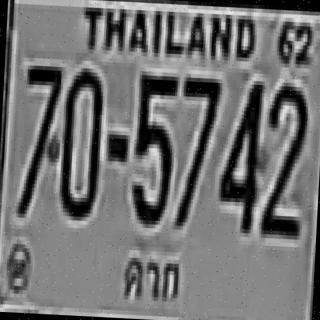N00: (59, 64, 102, 218)
N02: (260, 78, 308, 236)
N04: (217, 76, 263, 230)
N05: (129, 69, 177, 224)
N07: (173, 73, 220, 228), (16, 61, 62, 216)
P69: (119, 251, 184, 306)
